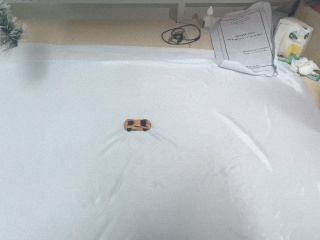toy_car: (124, 119, 152, 132)
